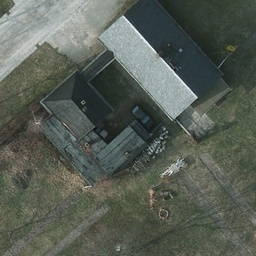car: (130, 105, 156, 130)
